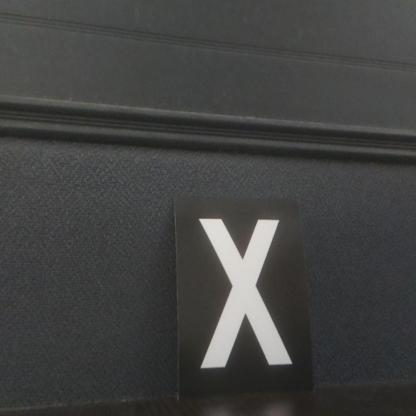x: (174, 197, 313, 389)
